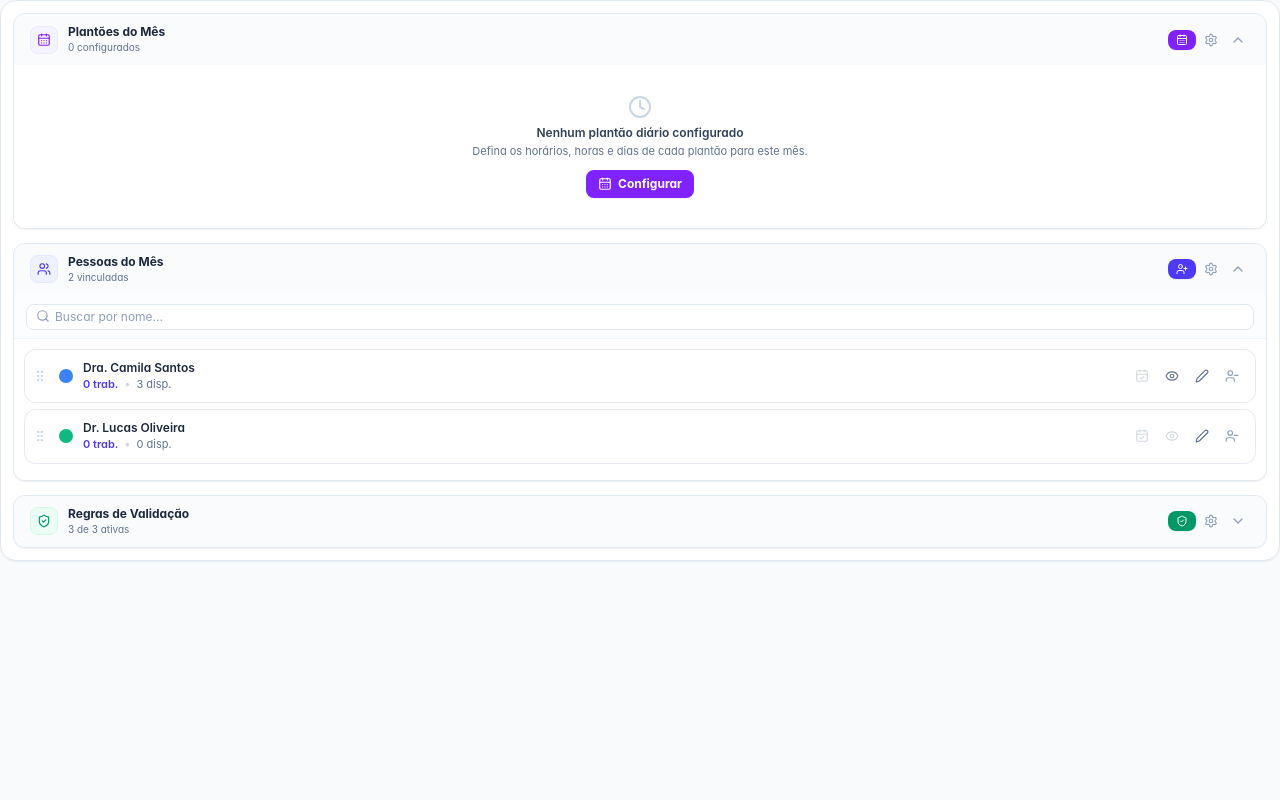
Test: Sidebar (month panel) › removes a person from the month without deleting them from the people registry
Step 1. Click the button named "remover dra. camila santos deste mês" → (1232, 376), box [1219, 363, 1245, 389]
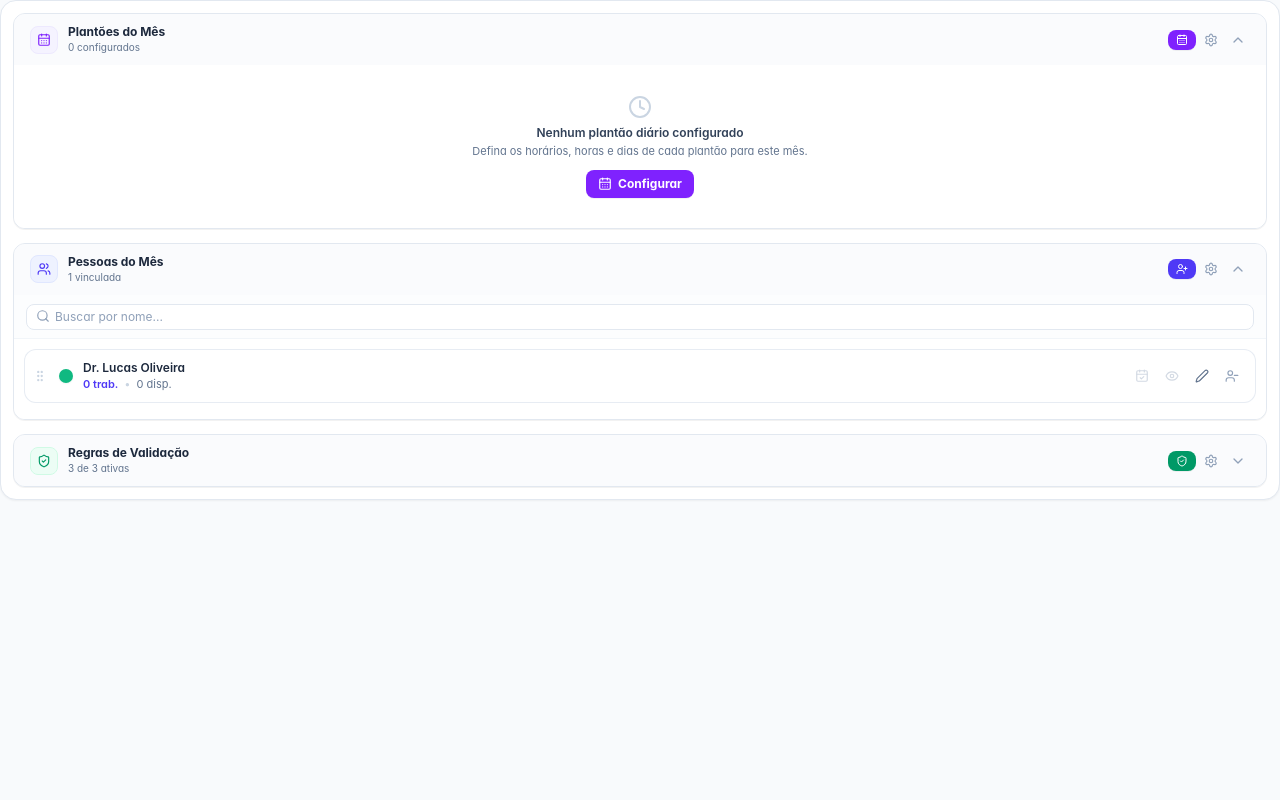
expect the text "Dra. Camila Santos" is gone: met
